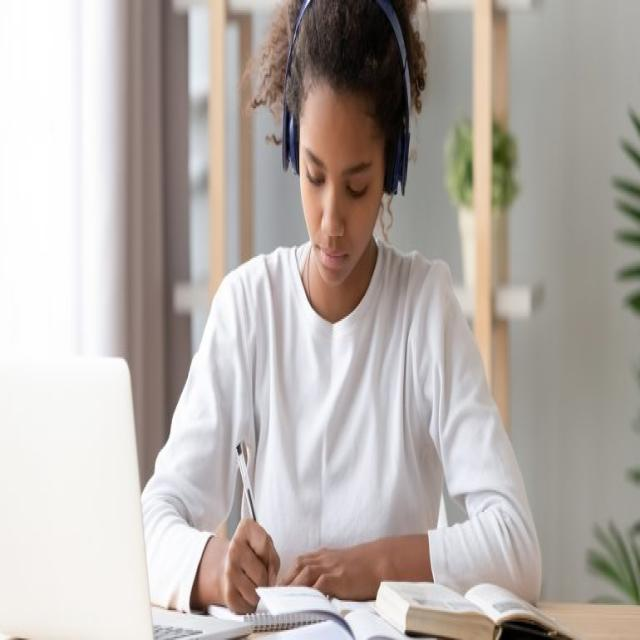studying-person: (148, 1, 581, 640)
